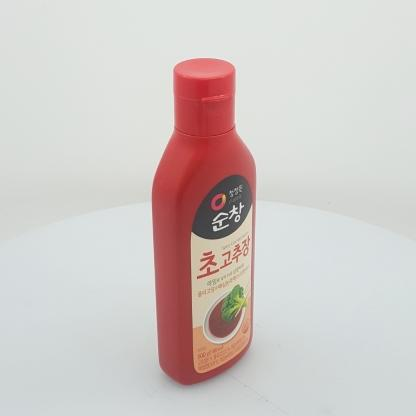---------: (151, 58, 256, 385)
